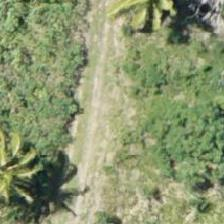coconut_tree: (117, 0, 207, 46)
